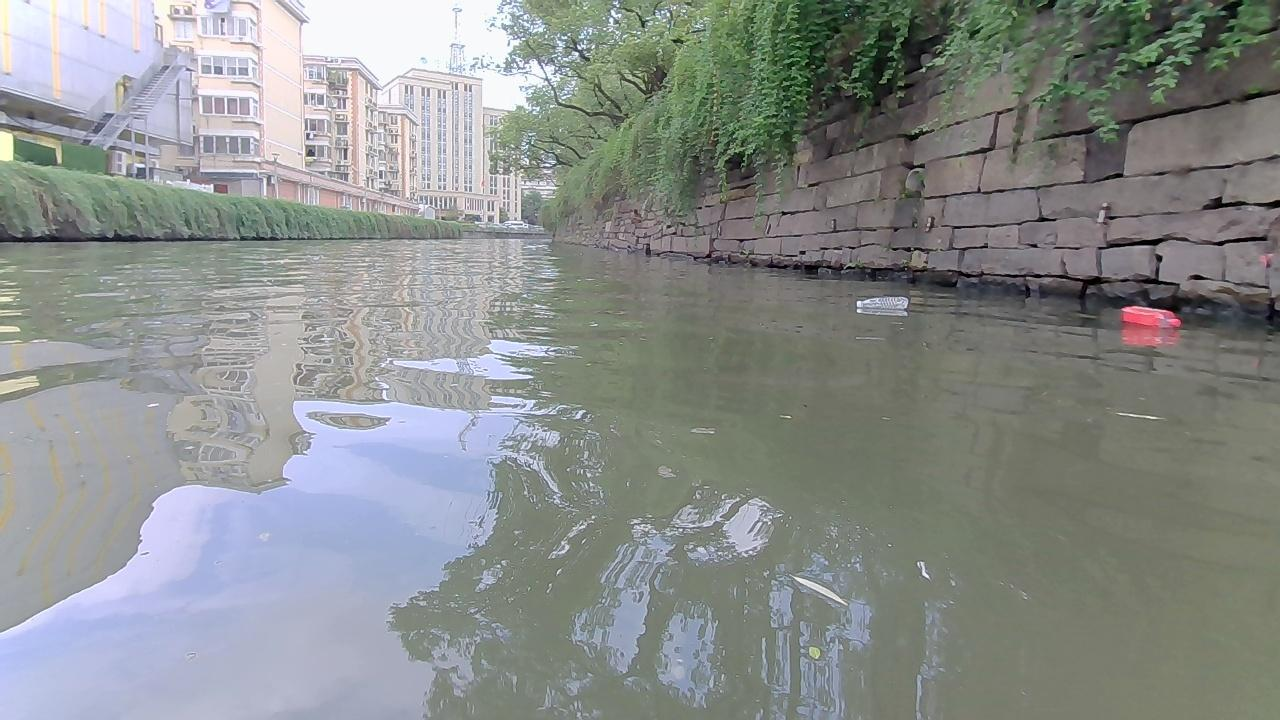bottle: (1119, 303, 1180, 327), (854, 295, 907, 309)
